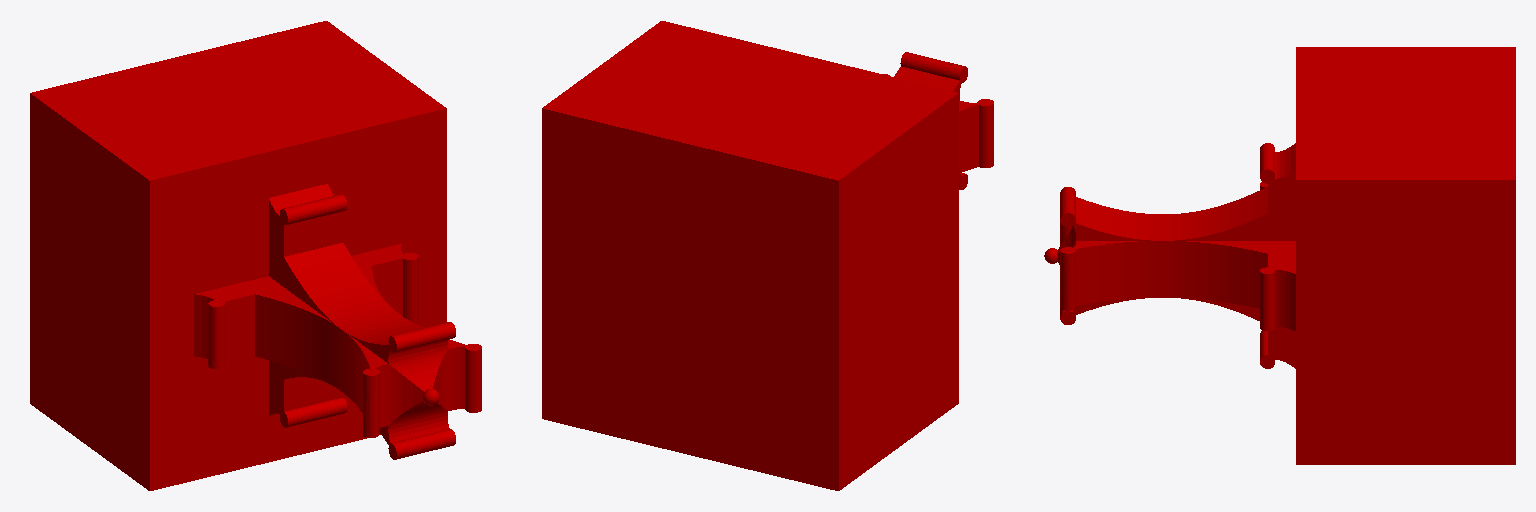
robot.urdf — triangle:
<?xml version="1.0" ?>
<robot name="triangle">
  <link name="baseLink">
    <contact>
      <lateral_friction value="0.2"/>
      <rolling_friction value="0.0"/>
	<restitution value="0.0" />
    </contact>
    <inertial>
      <origin rpy="0 0 0" xyz="0 0 0"/>
       <mass value="10"/>
       <inertia ixx="0" ixy="0" ixz="0" iyy="0" iyz="0" izz="0"/>
    </inertial>
    <visual>
      <origin rpy="0 0 0" xyz="0 0 0"/>
      <geometry>
		<mesh filename="./peg_3d_2.obj" scale="0.1 0.1 0.1"/>
      </geometry>
       <material name="red">
        <color rgba="0.8 0 0 1"/>
      </material>
    </visual>
    <collision>
      <origin rpy="0 0 0" xyz="0 0 0"/>
      <geometry>
	 	<mesh filename="./peg_3d_2.obj" scale="0.1 0.1 0.1"/>
      </geometry>
    </collision>
  </link>
</robot>

--- Render facts (derived) ---
3 views of the same robot in one strip: view 1: azimuth 30°, elevation 25°; view 2: azimuth 150°, elevation 25°; view 3: azimuth 270°, elevation 25° (orthographic).
Robot: triangle — 1 links, 0 joints (none); root link baseLink; default pose: every joint at zero.
Visible links, largest first — view 1: baseLink; view 2: baseLink; view 3: baseLink.
Link boxes in pixels (x1=…): baseLink: x1=30, y1=21, x2=481, y2=490; baseLink: x1=542, y1=21, x2=993, y2=490; baseLink: x1=1044, y1=47, x2=1515, y2=464.
Bounding box of the posed robot: 1 × 1.5 × 1 m (x, y, z).
1 mesh visuals loaded from 1 distinct referenced files (1 OBJ).